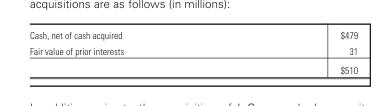table: (28, 28, 357, 75)
table column: (28, 28, 231, 75), (231, 28, 357, 75)
table row: (28, 42, 357, 59), (28, 59, 357, 75), (28, 28, 357, 42)
